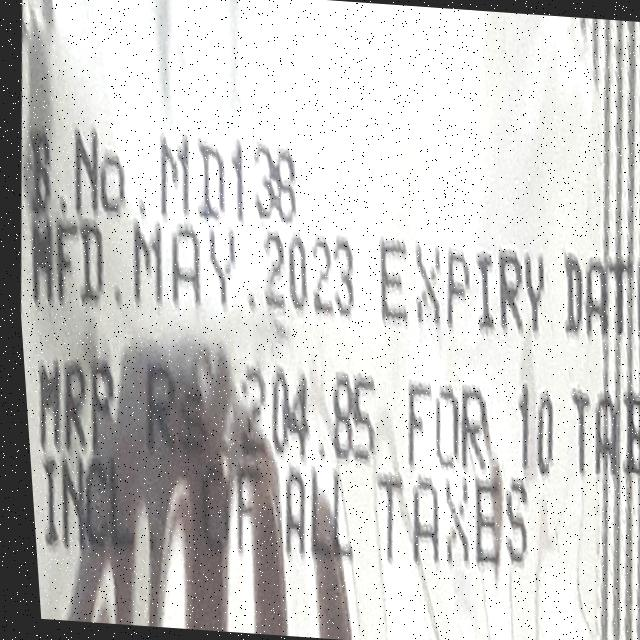sentence: (28, 177, 640, 346), (32, 346, 640, 493), (36, 442, 519, 575), (25, 124, 293, 225)
